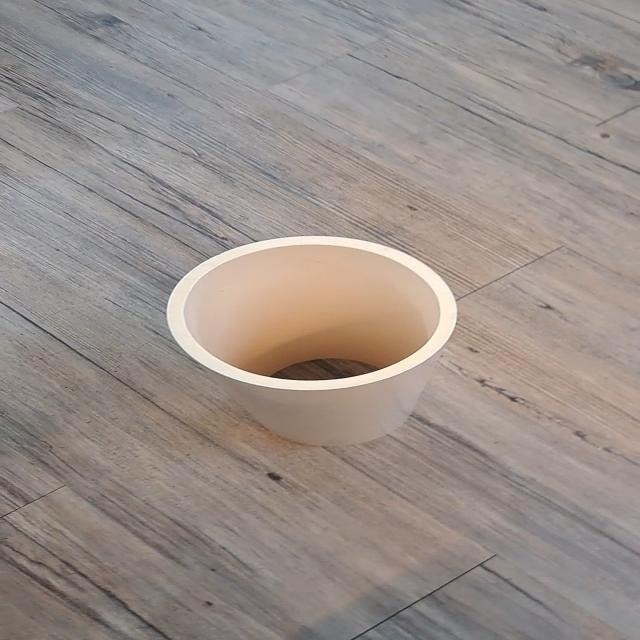CORAL: (150, 217, 497, 460)
